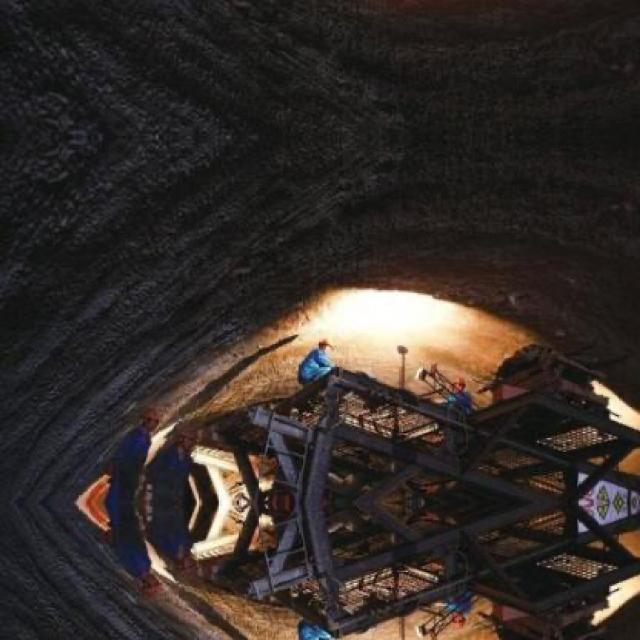helmet: (138, 408, 164, 432), (138, 576, 164, 598), (180, 558, 198, 582), (180, 426, 198, 448), (450, 376, 468, 394), (450, 614, 468, 631), (317, 338, 335, 354)
